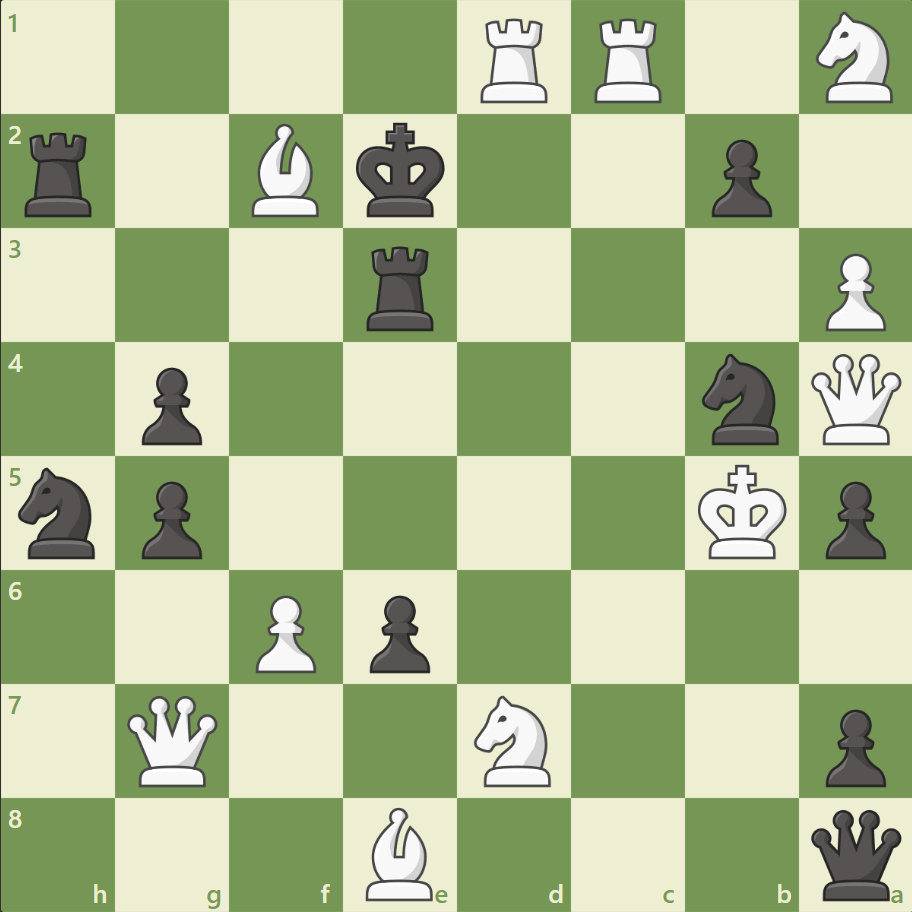B: (358, 801, 442, 904), (244, 120, 328, 222)
K: (692, 458, 792, 566)
N: (465, 688, 562, 791), (806, 7, 903, 110)
P: (247, 586, 322, 677), (815, 246, 889, 337)
Q: (805, 349, 904, 449), (124, 690, 223, 789)
R: (587, 12, 670, 109), (473, 12, 556, 109)
k: (351, 117, 451, 225)
n: (11, 461, 108, 564), (692, 348, 789, 450)
p: (133, 473, 208, 564), (133, 359, 208, 450), (701, 132, 776, 223), (815, 700, 889, 791), (361, 586, 435, 677), (815, 473, 889, 564)
q: (805, 804, 904, 903)
r: (19, 125, 102, 222), (360, 239, 442, 336)
